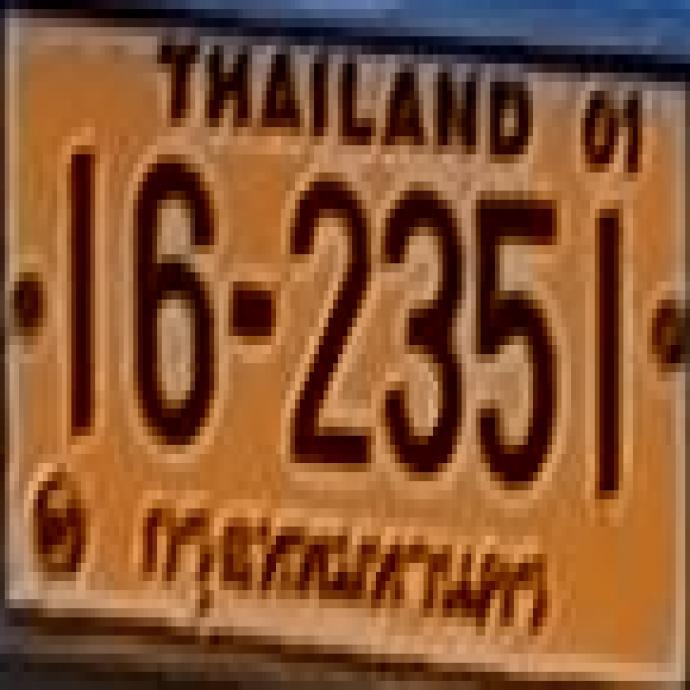1: (591, 203, 617, 493), (64, 142, 90, 428)
2: (287, 170, 365, 461)
3: (378, 180, 457, 472)
5: (471, 185, 552, 482)
6: (129, 146, 208, 435)
BKK: (128, 484, 559, 652)
